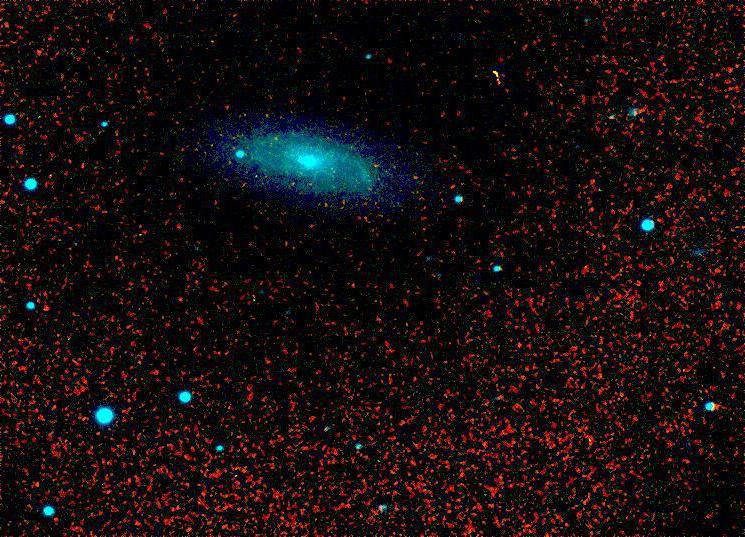star: (483, 59, 513, 89)
